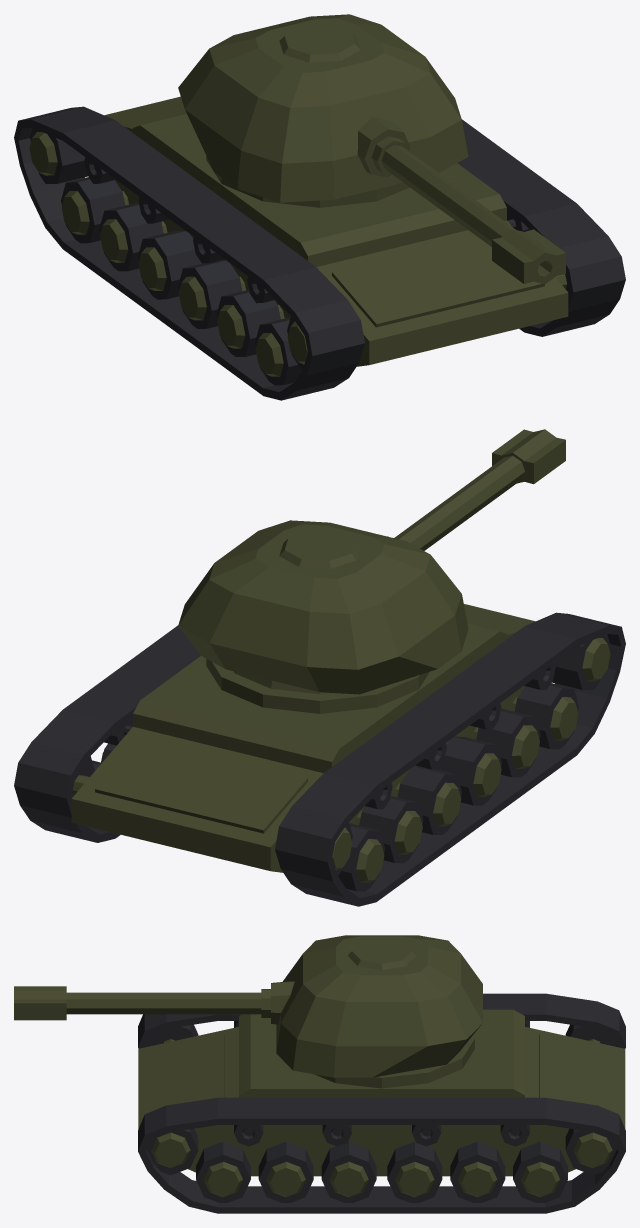
File: LPWarPack_TankB.fbx
3 renders of one model, top to bottom at view 1: azimuth 30°, elevation 25°; view 2: azimuth 150°, elevation 25°; view 3: azimuth 270°, elevation 25°, orthographic. The views are drawn at different scales.
Visible parts, largest first — view 1: TankB; view 2: TankB; view 3: TankB.
Part boxes in pixels (x1=…): TankB: x1=14, y1=14, x2=625, y2=400; TankB: x1=14, y1=429, x2=625, y2=906; TankB: x1=14, y1=935, x2=625, y2=1213.
Size of the model in its own units: 226 by 169 by 467.
